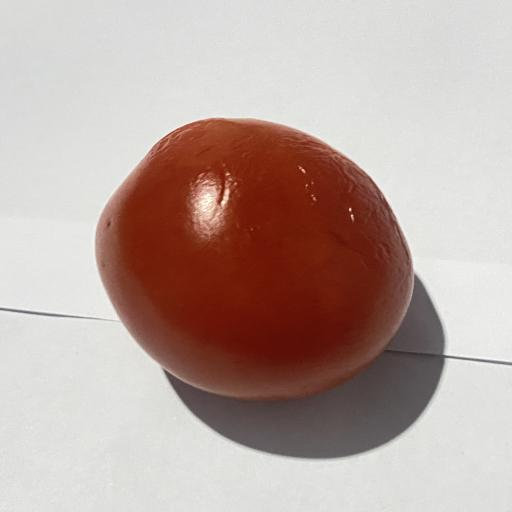spoiled: (96, 118, 413, 399)
